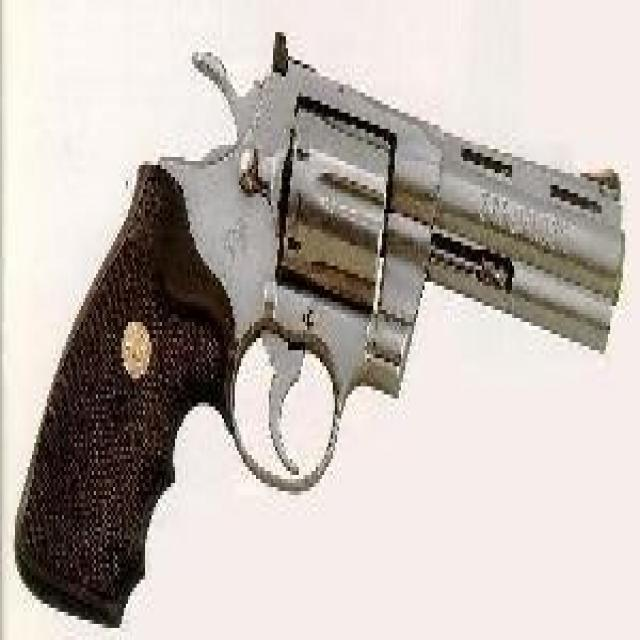gun: (10, 31, 630, 634)
